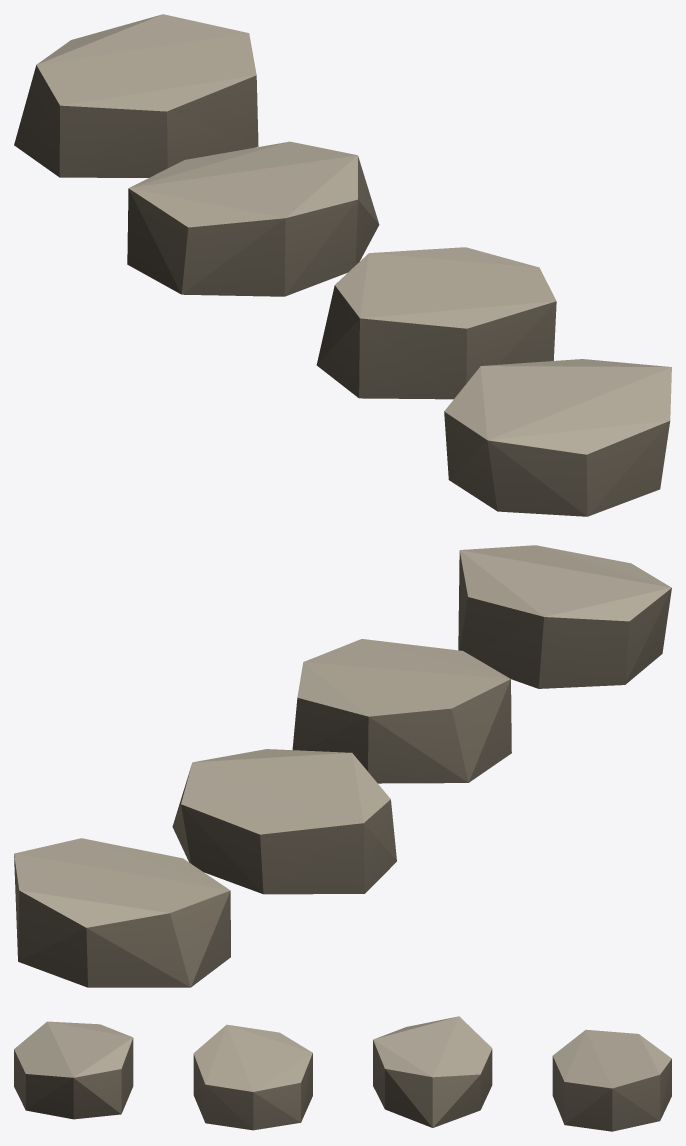
Rendered from steppingstones.glb.
The picture shows the model from 3 angles, top to bottom: view 1: azimuth 30°, elevation 25°; view 2: azimuth 150°, elevation 25°; view 3: azimuth 270°, elevation 25°; orthographic projection. The views are drawn at different scales.
Visible parts, largest first — view 1: base; view 2: base; view 3: base.
Boxes of the visible parts, left/top/right/bottom form: base: left=14, top=14, right=671, bottom=516; base: left=14, top=545, right=671, bottom=987; base: left=14, top=1016, right=671, bottom=1131.
Bounding box in the file's own units: 0.211 × 0.0647 × 0.8062.
